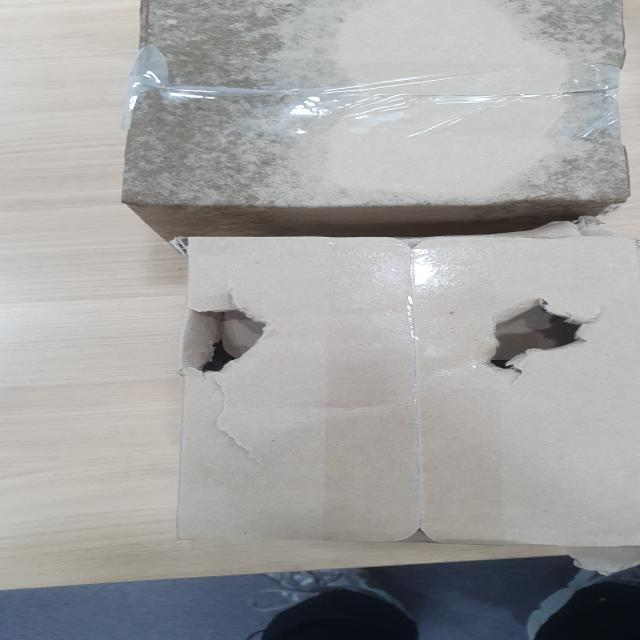hole: (470, 290, 618, 380), (182, 283, 279, 381)
wet: (127, 2, 315, 192), (514, 104, 634, 201), (505, 0, 640, 64)
